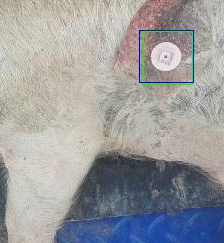text: (143, 31, 192, 84)
